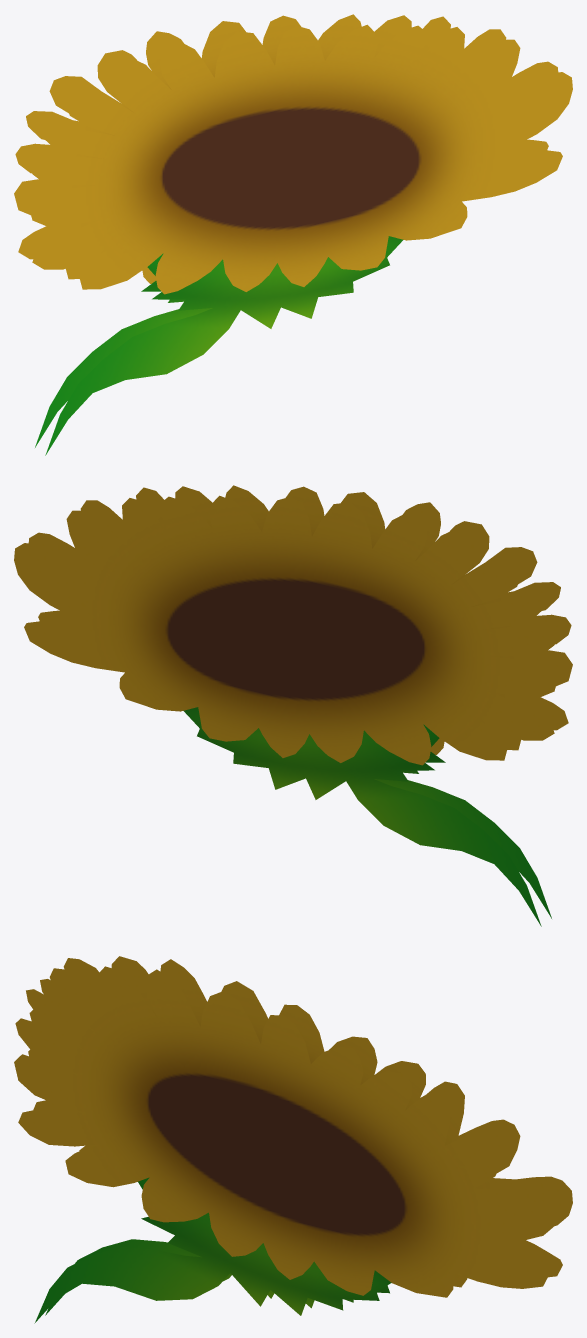
The model's file is himawari_flower.fbx.
3 renders of one model, top to bottom at view 1: azimuth 30°, elevation 25°; view 2: azimuth 150°, elevation 25°; view 3: azimuth 330°, elevation 25°, orthographic.
Visible parts, largest first — view 1: flower; view 2: flower; view 3: flower.
Part boxes in pixels (x1=…): flower: x1=14, y1=14, x2=572, y2=455; flower: x1=14, y1=485, x2=572, y2=926; flower: x1=14, y1=956, x2=572, y2=1323.
Size of the model in its own units: 358 by 242 by 16.
